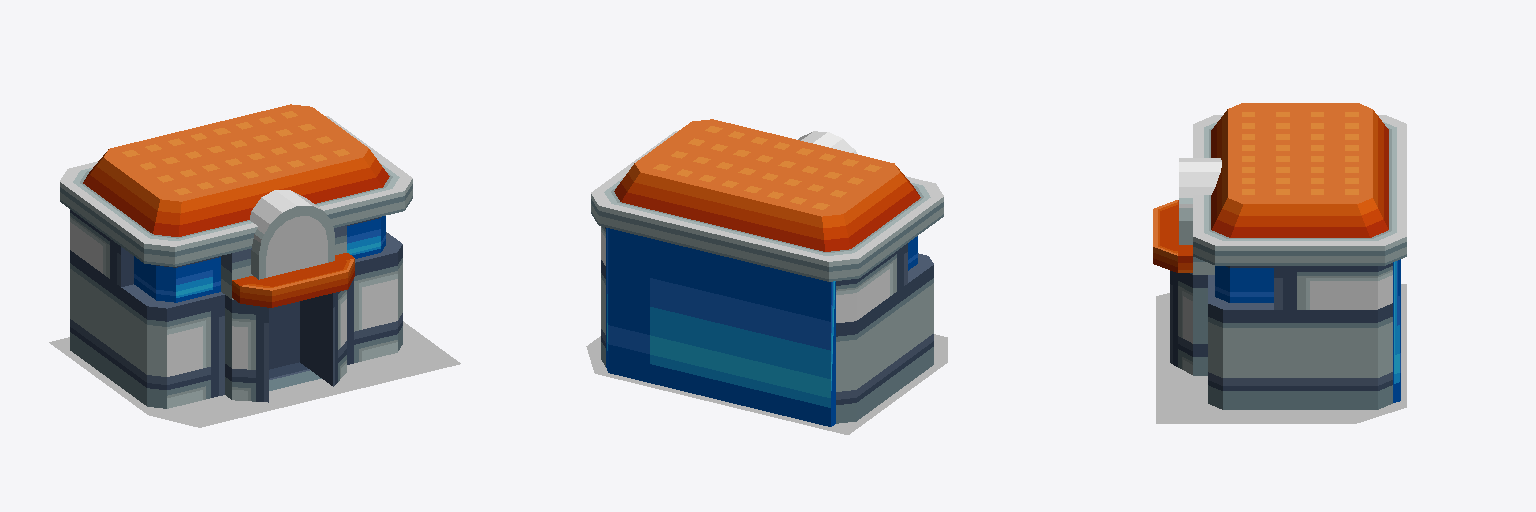
3 renders of one model, left to right at view 1: azimuth 30°, elevation 25°; view 2: azimuth 150°, elevation 25°; view 3: azimuth 270°, elevation 25°, orthographic.
Visible parts, largest first — view 1: Pokémon_Center; view 2: Pokémon_Center; view 3: Pokémon_Center.
Boxes of the visible parts, <box> form: Pokémon_Center: <box>49,104,460,427</box>; Pokémon_Center: <box>586,119,947,434</box>; Pokémon_Center: <box>1153,103,1406,423</box>.
Bounding box in the file's own units: 53.28 × 34.63 × 40.84.
4 materials, 2 textured.